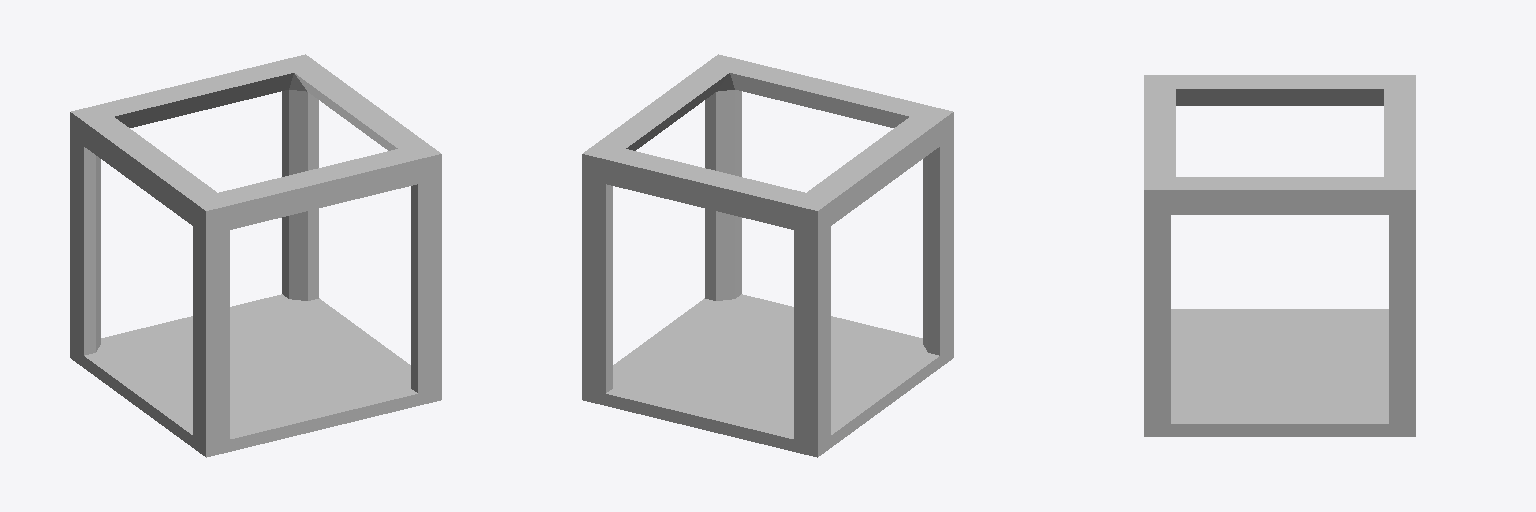
File: mmChamber.obj
3 views of the same model, side by side, from view 1: azimuth 30°, elevation 25°; view 2: azimuth 150°, elevation 25°; view 3: azimuth 270°, elevation 25° (orthographic).
Visible parts, largest first — view 1: Cube; view 2: Cube; view 3: Cube.
Boxes of the visible parts, x1=… form: Cube: x1=70, y1=54, x2=441, y2=457; Cube: x1=582, y1=54, x2=953, y2=457; Cube: x1=1144, y1=75, x2=1415, y2=436.
Size of the model in its own units: 2 by 2 by 2.